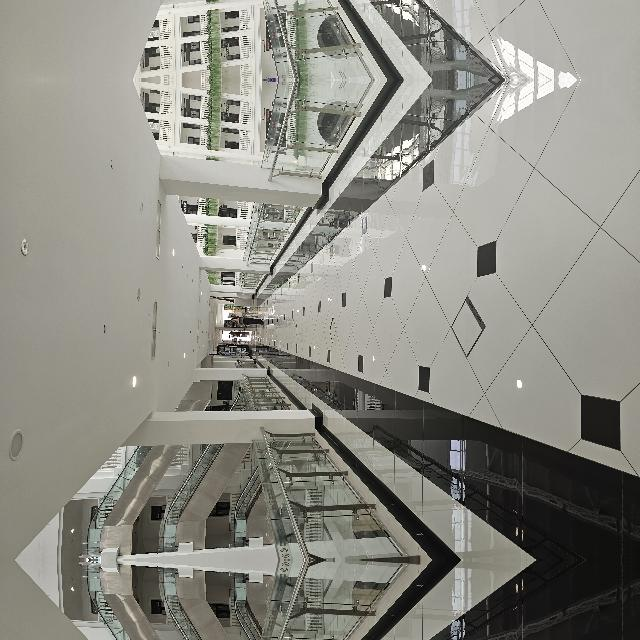person: (232, 310, 244, 344), (223, 310, 229, 330)
